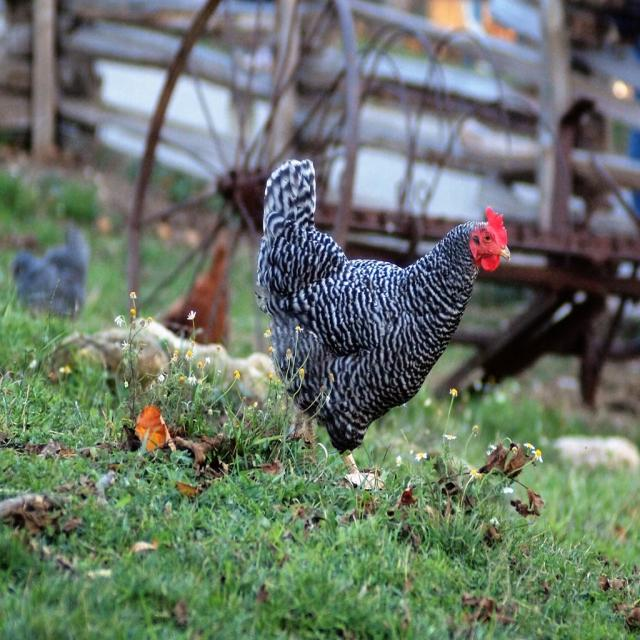Chicken: (254, 158, 511, 488), (10, 222, 87, 322), (153, 242, 228, 344)
